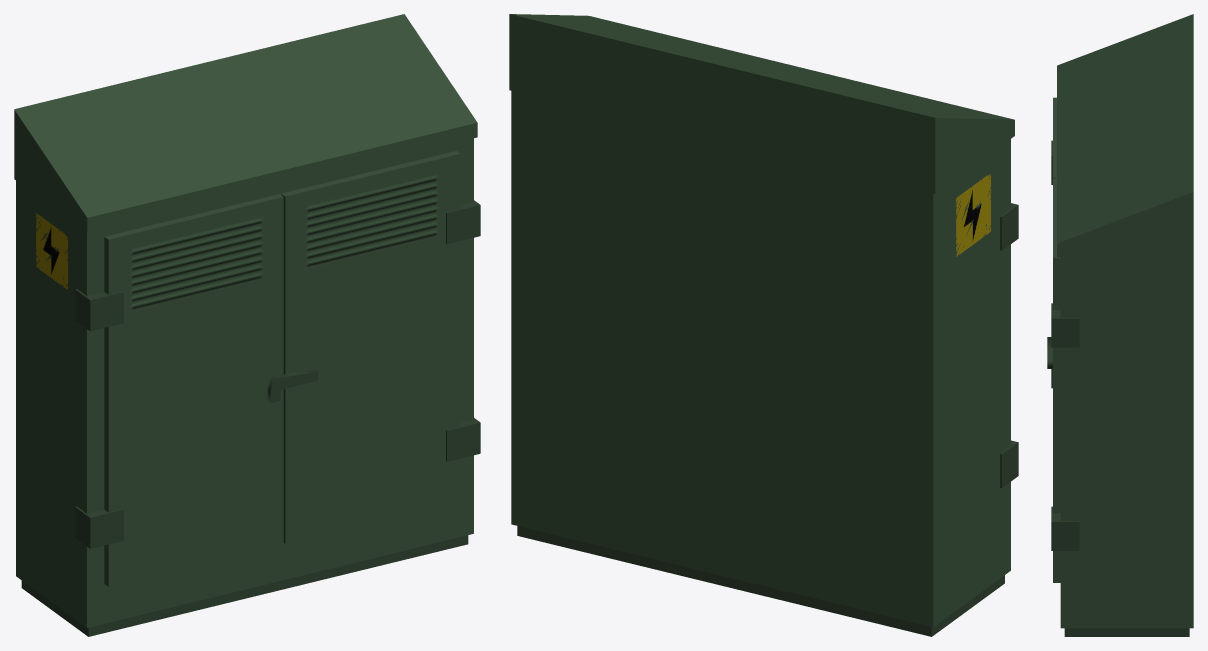
File: SW_PROP_JunctionBox_02.fbx
3 renders of one model, left to right at view 1: azimuth 30°, elevation 25°; view 2: azimuth 150°, elevation 25°; view 3: azimuth 270°, elevation 25°, orthographic. The views are drawn at different scales.
Parts seen in each view (by area): view 1: SW_PROP_JunctionBox_02; view 2: SW_PROP_JunctionBox_02; view 3: SW_PROP_JunctionBox_02.
Boxes of the visible parts, x1,y1,x2,y2 form: SW_PROP_JunctionBox_02: (14, 14, 480, 636); SW_PROP_JunctionBox_02: (509, 14, 1018, 636); SW_PROP_JunctionBox_02: (1047, 14, 1193, 636).
Size of the model in its own units: 1.11 by 1.3 by 0.385.
